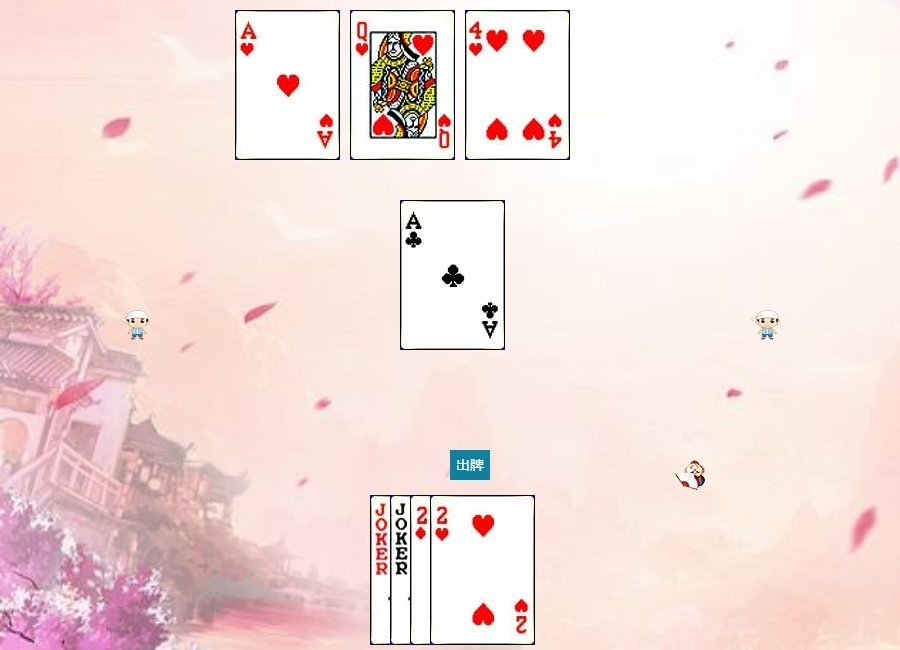12~3: (350, 10, 455, 160)
14~2: (400, 200, 505, 350)
14~3: (235, 10, 340, 160)
15~1: (410, 495, 515, 645)
15~3: (430, 495, 535, 645)
17~3: (390, 495, 495, 645)
18~4: (370, 495, 475, 645)
4~3: (465, 10, 570, 160)
